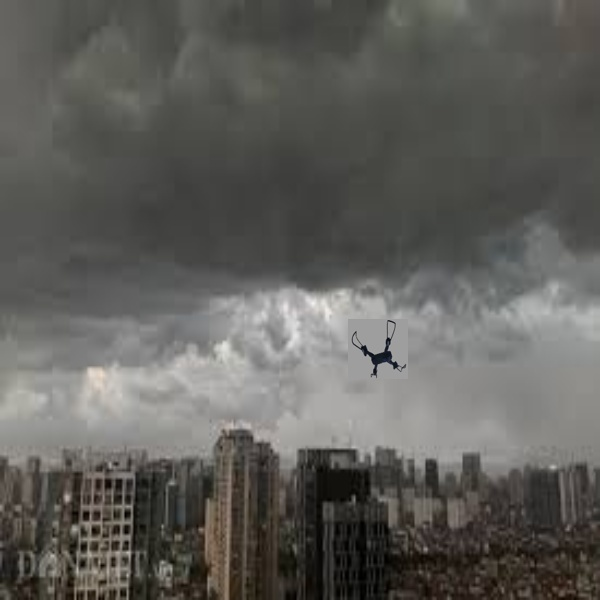drone: (353, 319, 417, 382)
